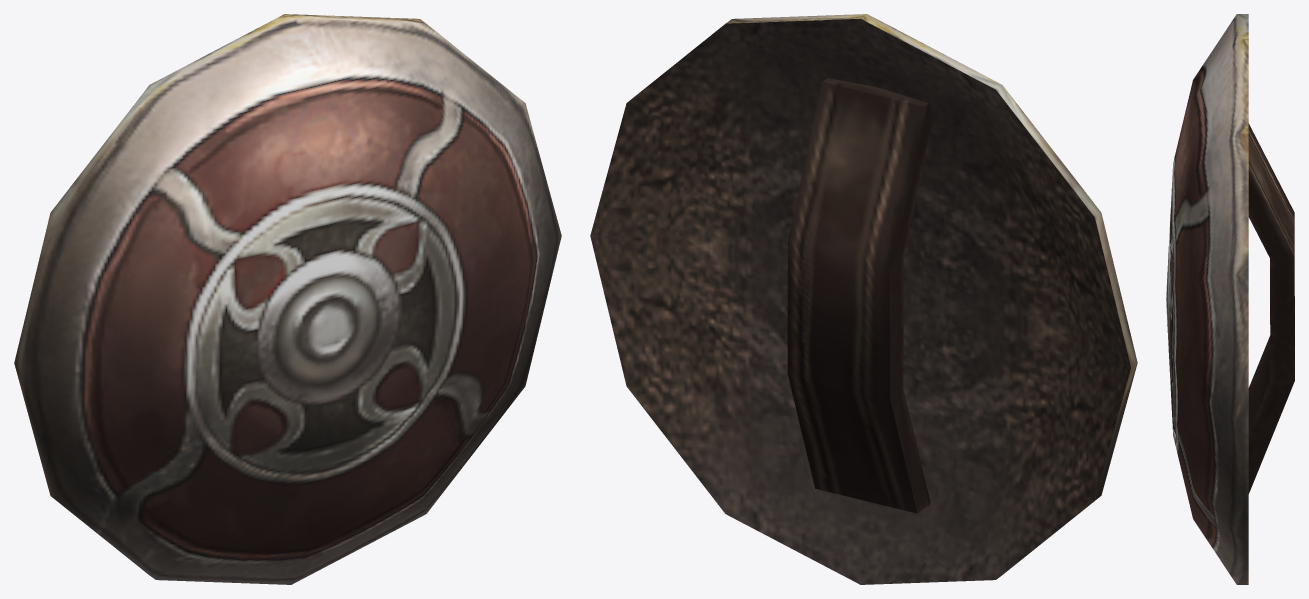
Rendered from Yuandun.FBX.
The picture shows the model from 3 angles, left to right: view 1: azimuth 30°, elevation 25°; view 2: azimuth 150°, elevation 25°; view 3: azimuth 270°, elevation 25°; orthographic projection. The views are drawn at different scales.
Parts seen in each view (by area): view 1: Yuandun; view 2: Yuandun; view 3: Yuandun.
Part boxes in pixels (<box>): Yuandun: <box>14,14,561,584</box>; Yuandun: <box>590,14,1137,584</box>; Yuandun: <box>1166,14,1294,584</box>.
Size of the model in its own units: 56.52 by 56.53 by 12.7.
Materials: 1 (1 with a texture image).
